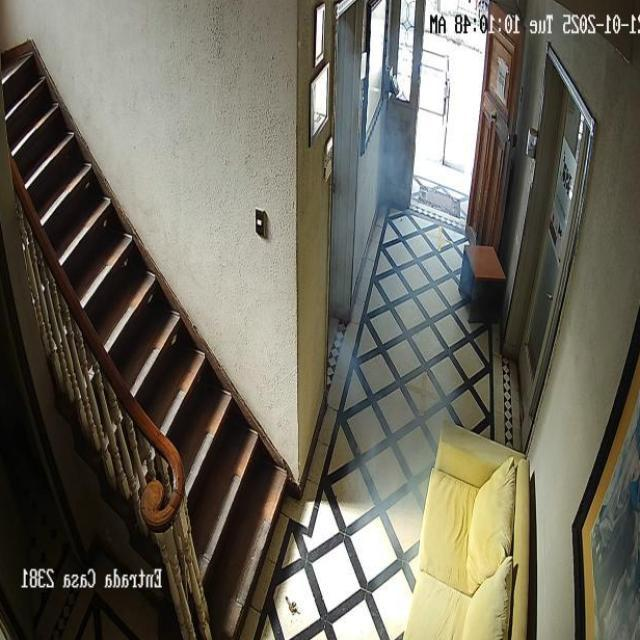fire: (328, 10, 471, 592)
